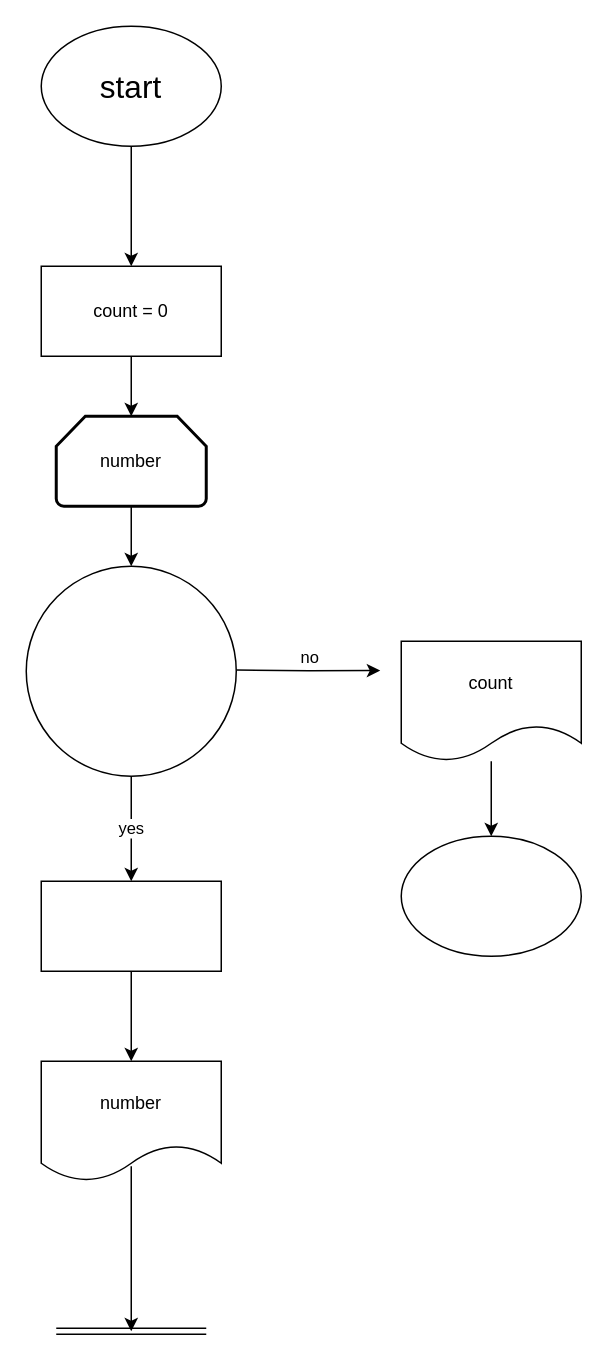
Some shapes in this 608 by 1370 pixel diagram are drawn without their labels. Each missing label, with the centre of its shape:
"count += 1" goes at (130,925).
"number != 0?" goes at (130,670).
"stop" goes at (490,895).
